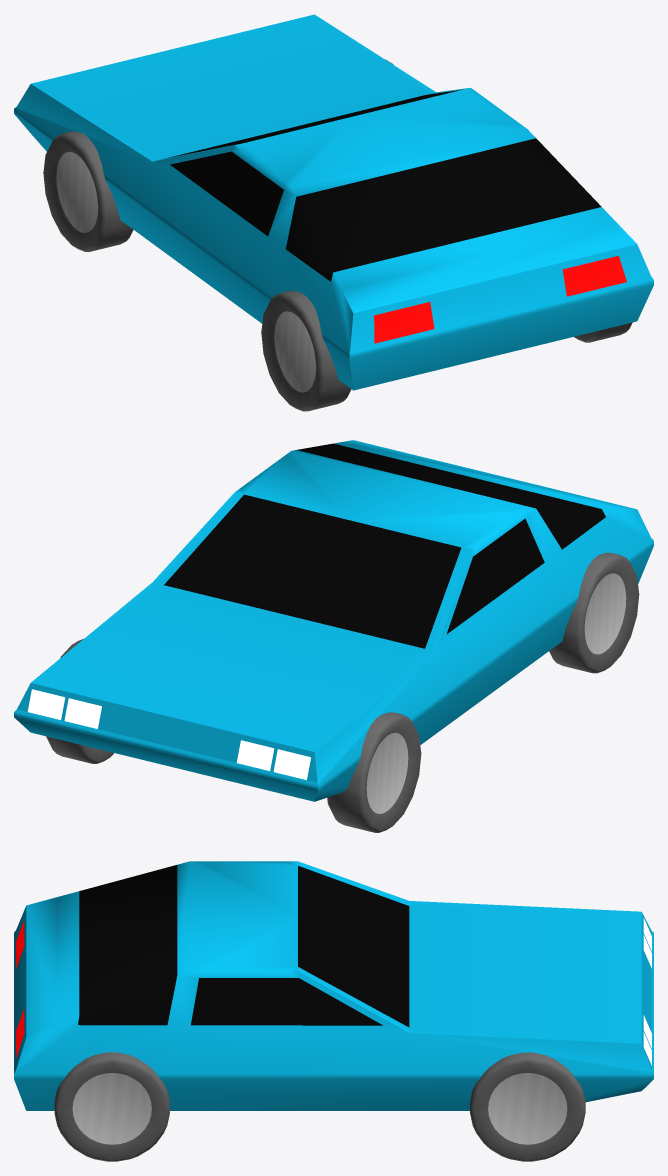
The model's file is car.glb.
The picture shows the model from 3 angles, top to bottom: view 1: azimuth 30°, elevation 25°; view 2: azimuth 150°, elevation 25°; view 3: azimuth 270°, elevation 25°; orthographic projection. The views are drawn at different scales.
Parts seen in each view (by area): view 1: Chassis, Wheel3, Wheel1; view 2: Chassis, Wheel1, Wheel3, Wheel2; view 3: Chassis, Wheel4, Wheel2.
Part boxes in pixels (x1,y1,x2,y2): Chassis: [14, 14, 653, 390]; Wheel3: [261, 290, 351, 411]; Wheel1: [43, 131, 133, 251]; Chassis: [14, 440, 653, 801]; Wheel1: [327, 712, 421, 832]; Wheel3: [549, 552, 639, 673]; Wheel2: [46, 639, 113, 763]; Chassis: [14, 861, 653, 1110]; Wheel4: [54, 1052, 169, 1161]; Wheel2: [470, 1052, 585, 1161].
Size of the model in its own units: 1.66 by 0.8934 by 3.
